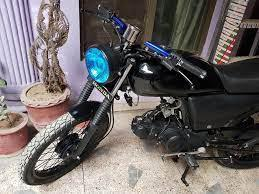bike: (17, 5, 259, 187)
